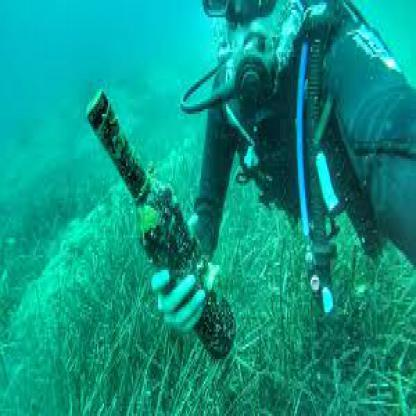Rác: (81, 79, 238, 357)
